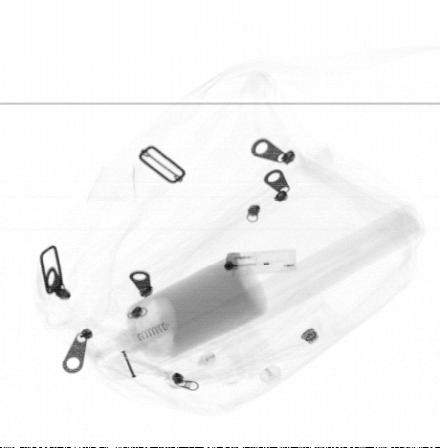Lighter: (223, 248, 298, 277)
